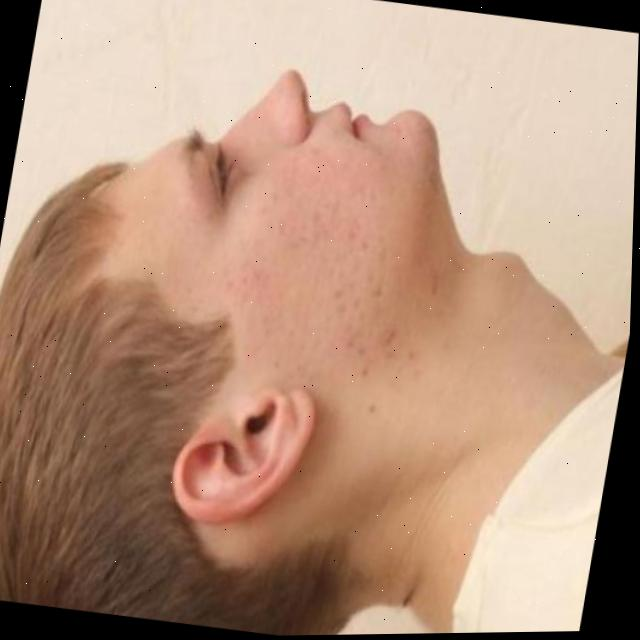Acne: (207, 177, 449, 381)
